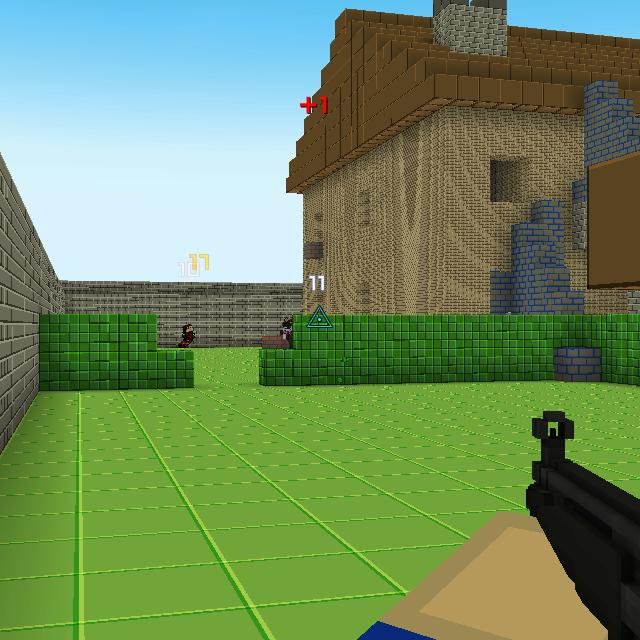enemy: (279, 316, 293, 348)
